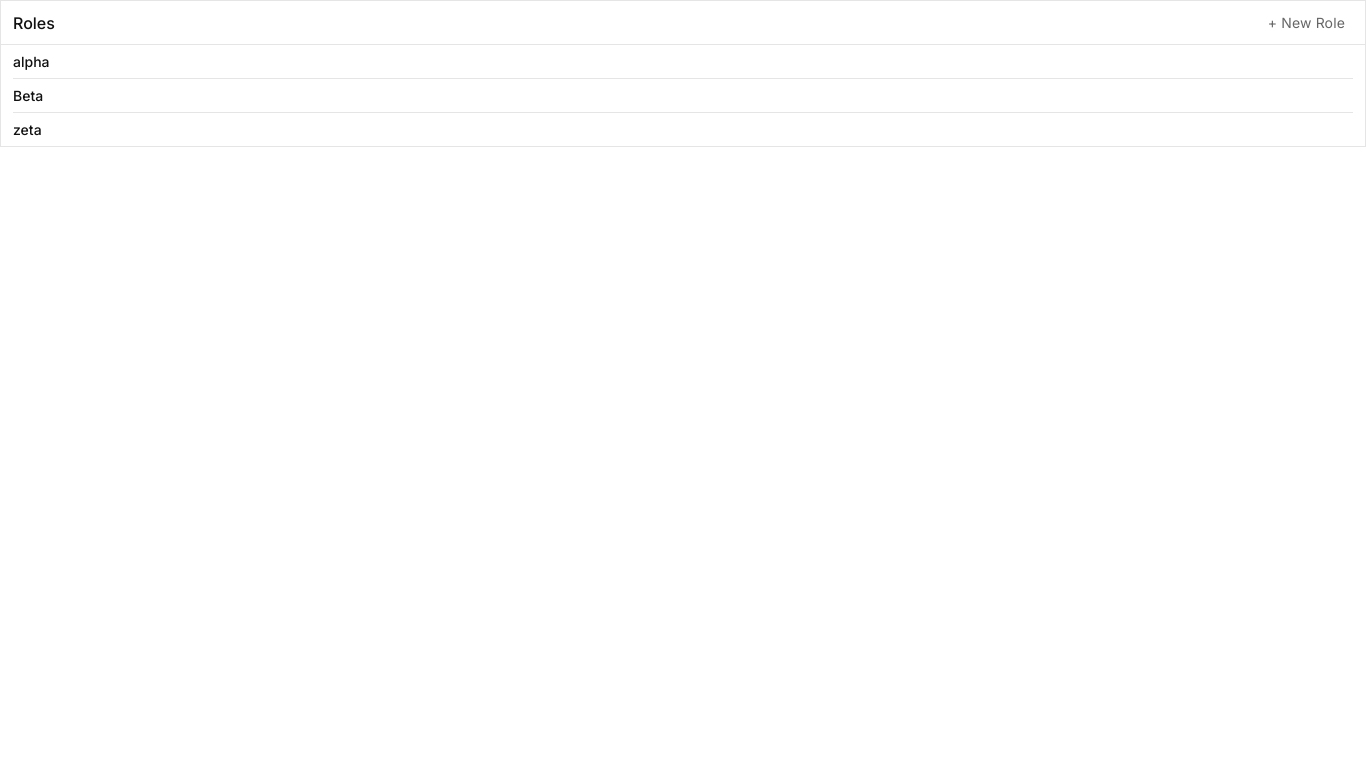
Test: RolesPanel › A5: the detail sheet › A5: closing a sheet opened by tapping leaves the list on screen
Check: the text "alpha" is shown, box [13,53,50,70]
Click the button "alpha" at point(31, 62), box [13,53,1353,70]
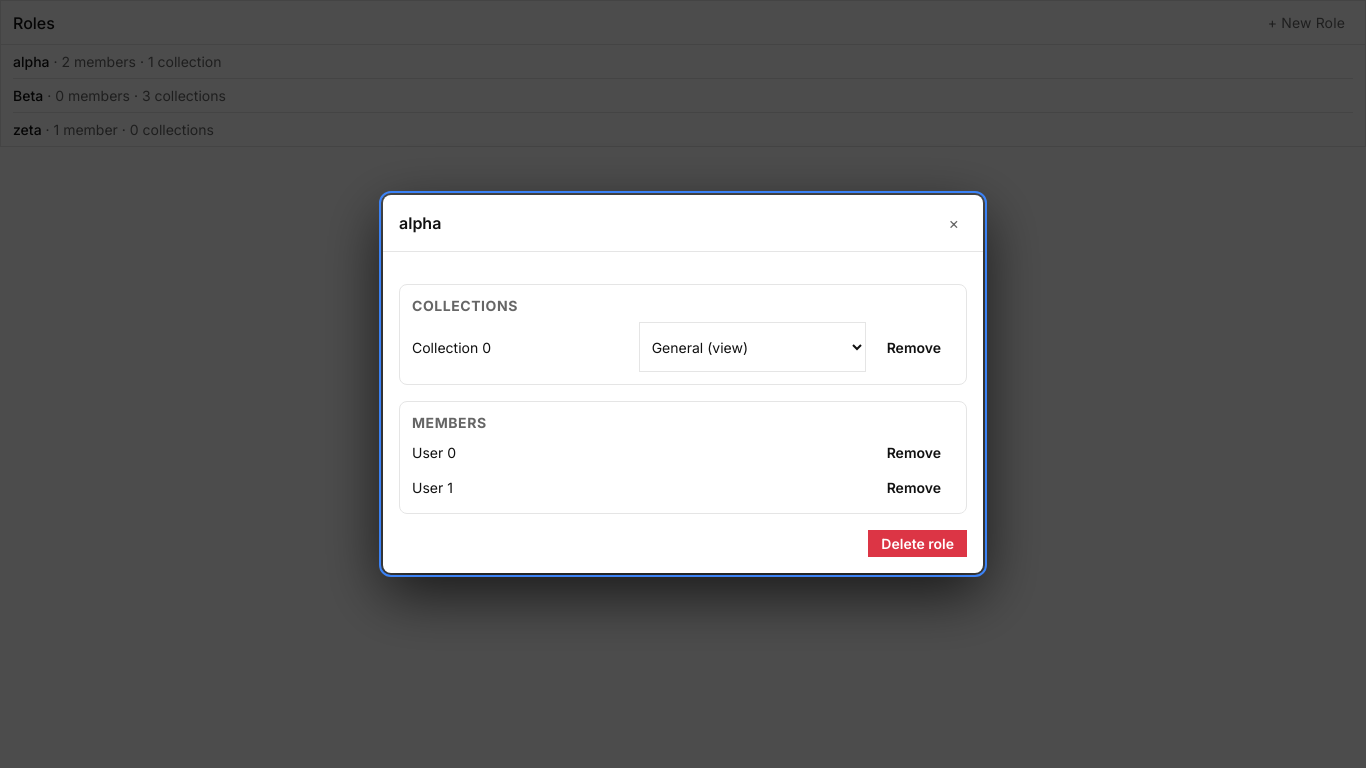
Check: the dialog "alpha" is shown, box [383,195,983,573]
Click the button named "close" at point(954, 223), box [940,207,967,239]
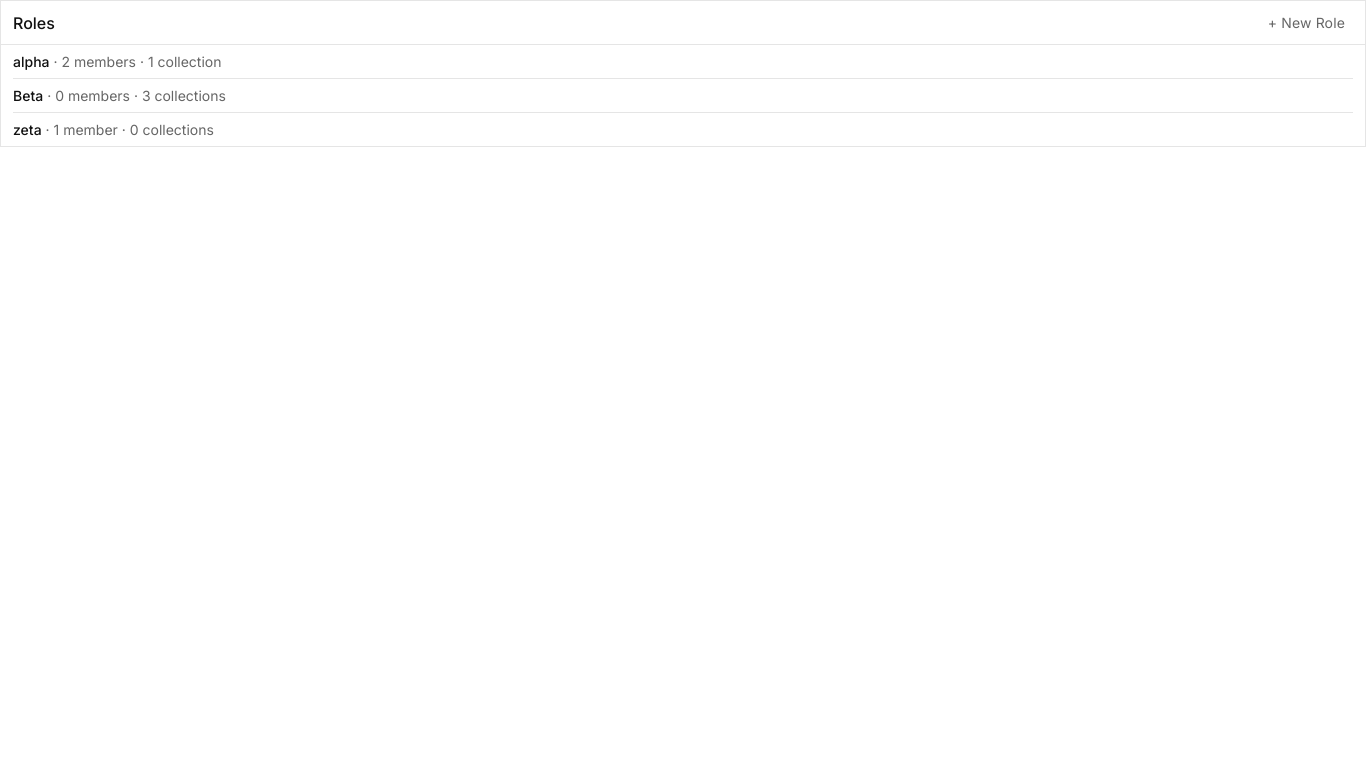
Check: the number of list items is 3, box [13,45,1353,79]; [13,79,1353,113]; [13,121,1353,138]
Check: the dialog is gone
